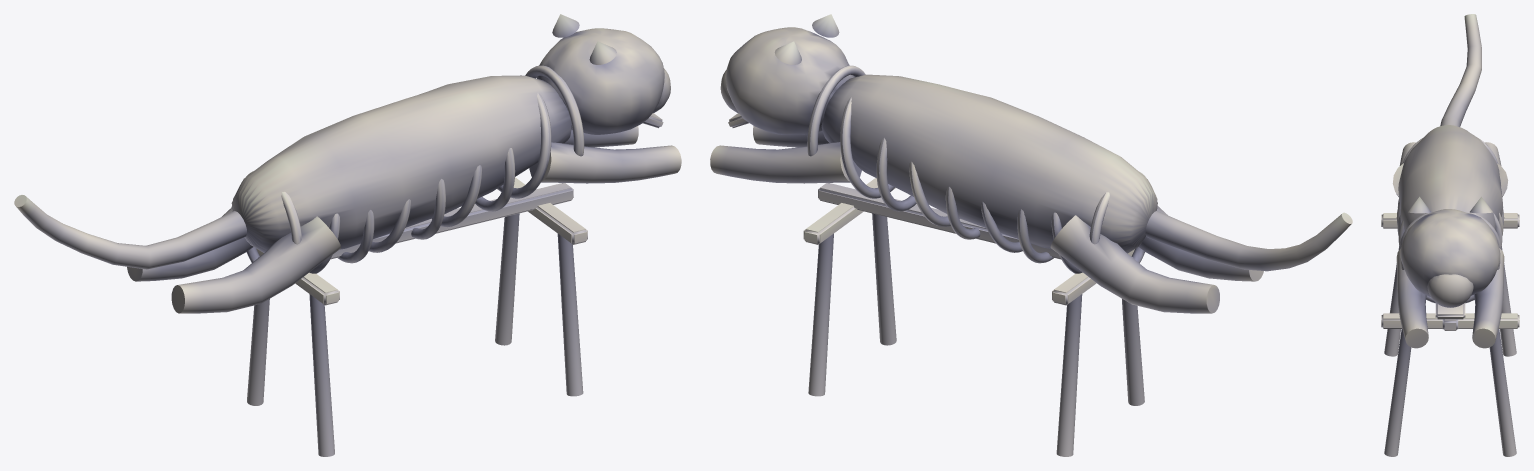
File: tiger-frame.glb
3 renders of one model, left to right at view 1: azimuth 30°, elevation 25°; view 2: azimuth 150°, elevation 25°; view 3: azimuth 270°, elevation 25°, orthographic. The views are drawn at different scales.
Parts seen in each view (by area): view 1: body; view 2: body; view 3: body.
Boxes of the visible parts, x1,y1,x2,y2 form: body: (14, 14, 681, 456); body: (710, 14, 1352, 456); body: (1381, 14, 1519, 456).
Bounding box in the file's own units: 3.09 × 1.53 × 0.7.
